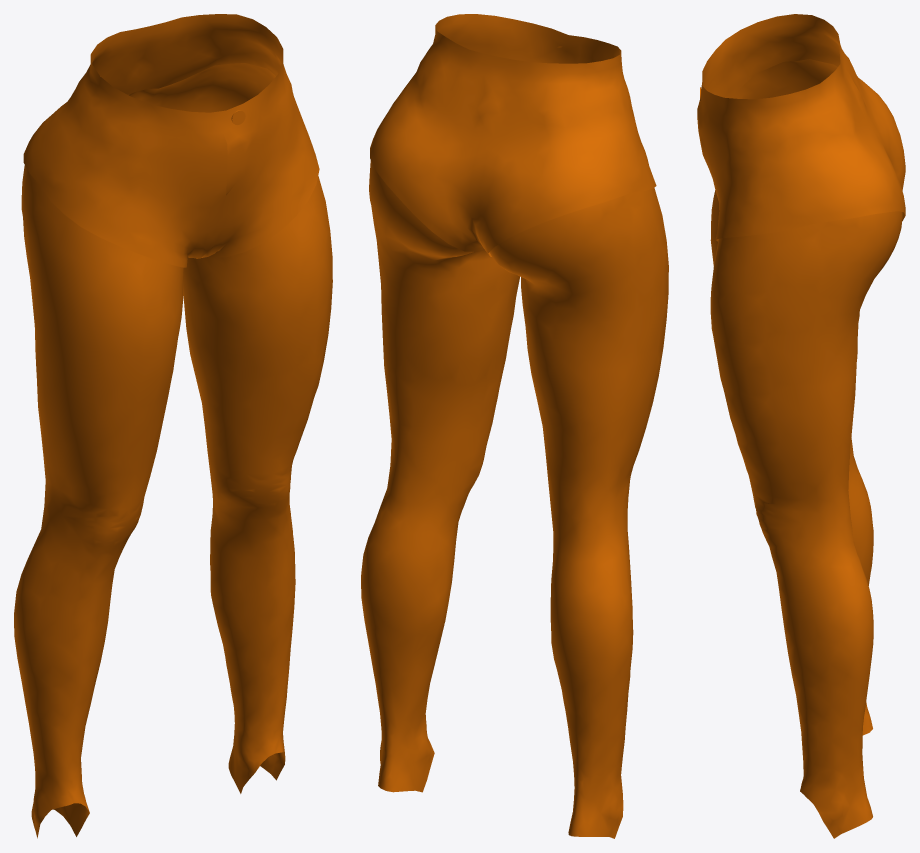
The model's file is calçaofem13.glb.
3 views of the same model, side by side, from view 1: azimuth 30°, elevation 25°; view 2: azimuth 150°, elevation 25°; view 3: azimuth 270°, elevation 25° (orthographic). The views are drawn at different scales.
Parts seen in each view (by area): view 1: hash_AD5B91CF.model; view 2: hash_AD5B91CF.model; view 3: hash_AD5B91CF.model.
Part boxes in pixels (x1=…): hash_AD5B91CF.model: x1=14, y1=14, x2=332, y2=838; hash_AD5B91CF.model: x1=361, y1=14, x2=668, y2=838; hash_AD5B91CF.model: x1=697, y1=14, x2=905, y2=838.
Bounding box in the file's own units: 0.4158 × 1.15 × 0.2941.
